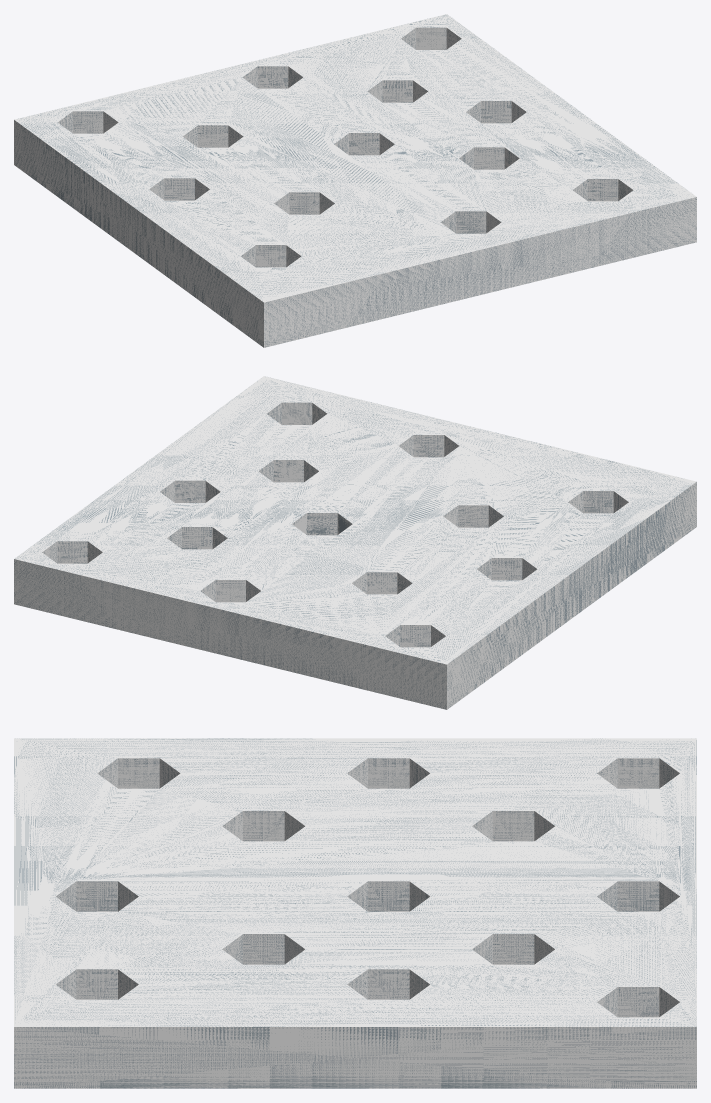
3 views of the same model, one above another, from view 1: azimuth 30°, elevation 25°; view 2: azimuth 150°, elevation 25°; view 3: azimuth 270°, elevation 25° (orthographic). The views are drawn at different scales.
Visible parts, largest first — view 1: Model; view 2: Model; view 3: Model.
Part boxes in pixels (bbox=[...]): Model: bbox=[14, 14, 696, 347]; Model: bbox=[14, 376, 696, 709]; Model: bbox=[14, 738, 696, 1088].
Size of the model in its own units: 5 by 0.5 by 5.
